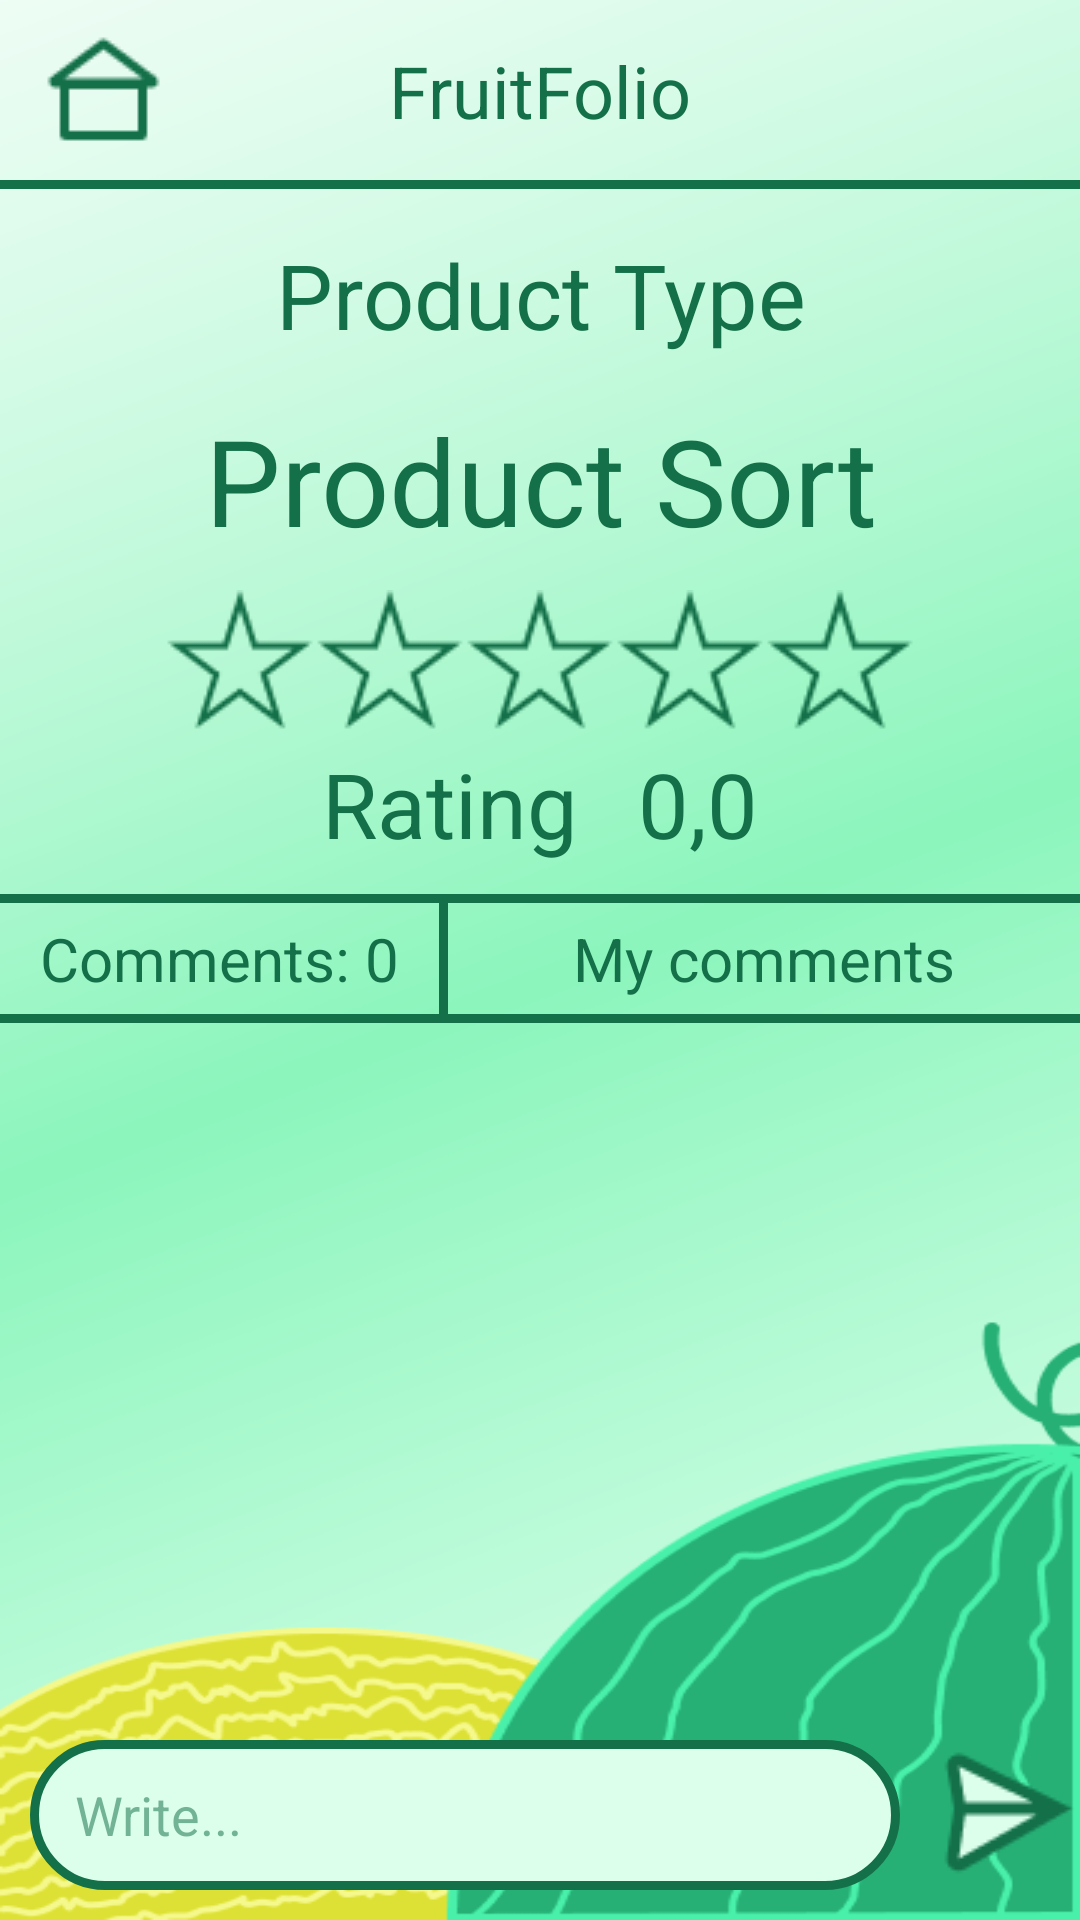

Icon bounding boxes for this 1080px×1920px phone screenshot, format (left=x1, top=y1, right=x2, bottom=y2):
Home: (left=47, top=37, right=160, bottom=141)
send: (left=946, top=1754, right=1071, bottom=1871)
Star 1: (left=169, top=592, right=311, bottom=729)
Star 2: (left=318, top=592, right=462, bottom=729)
Star 3: (left=469, top=592, right=611, bottom=728)
Star 4: (left=619, top=592, right=761, bottom=728)
Star 5: (left=769, top=592, right=911, bottom=729)
